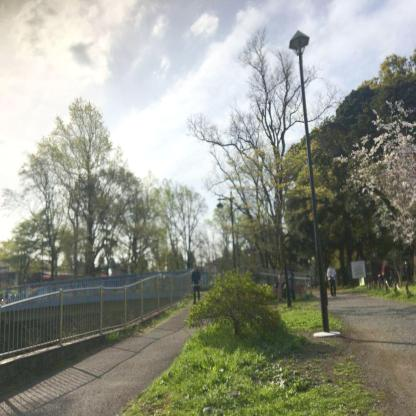Someiyoshino: (339, 94, 416, 245)
